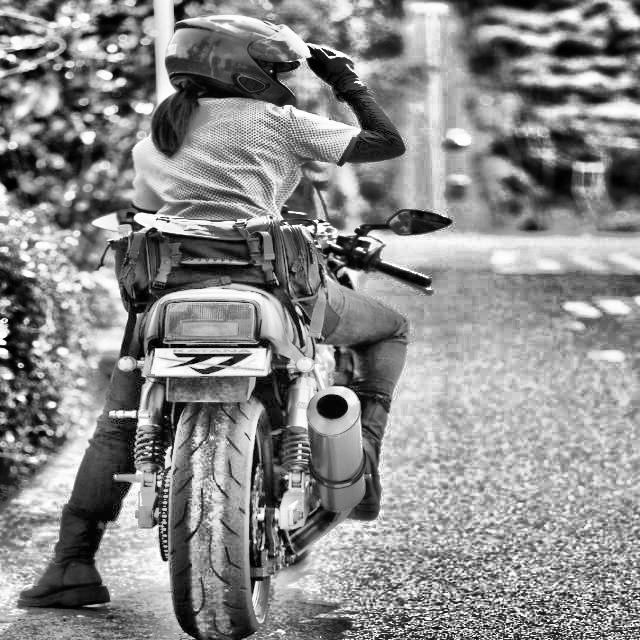Helmet: (160, 10, 318, 110)
